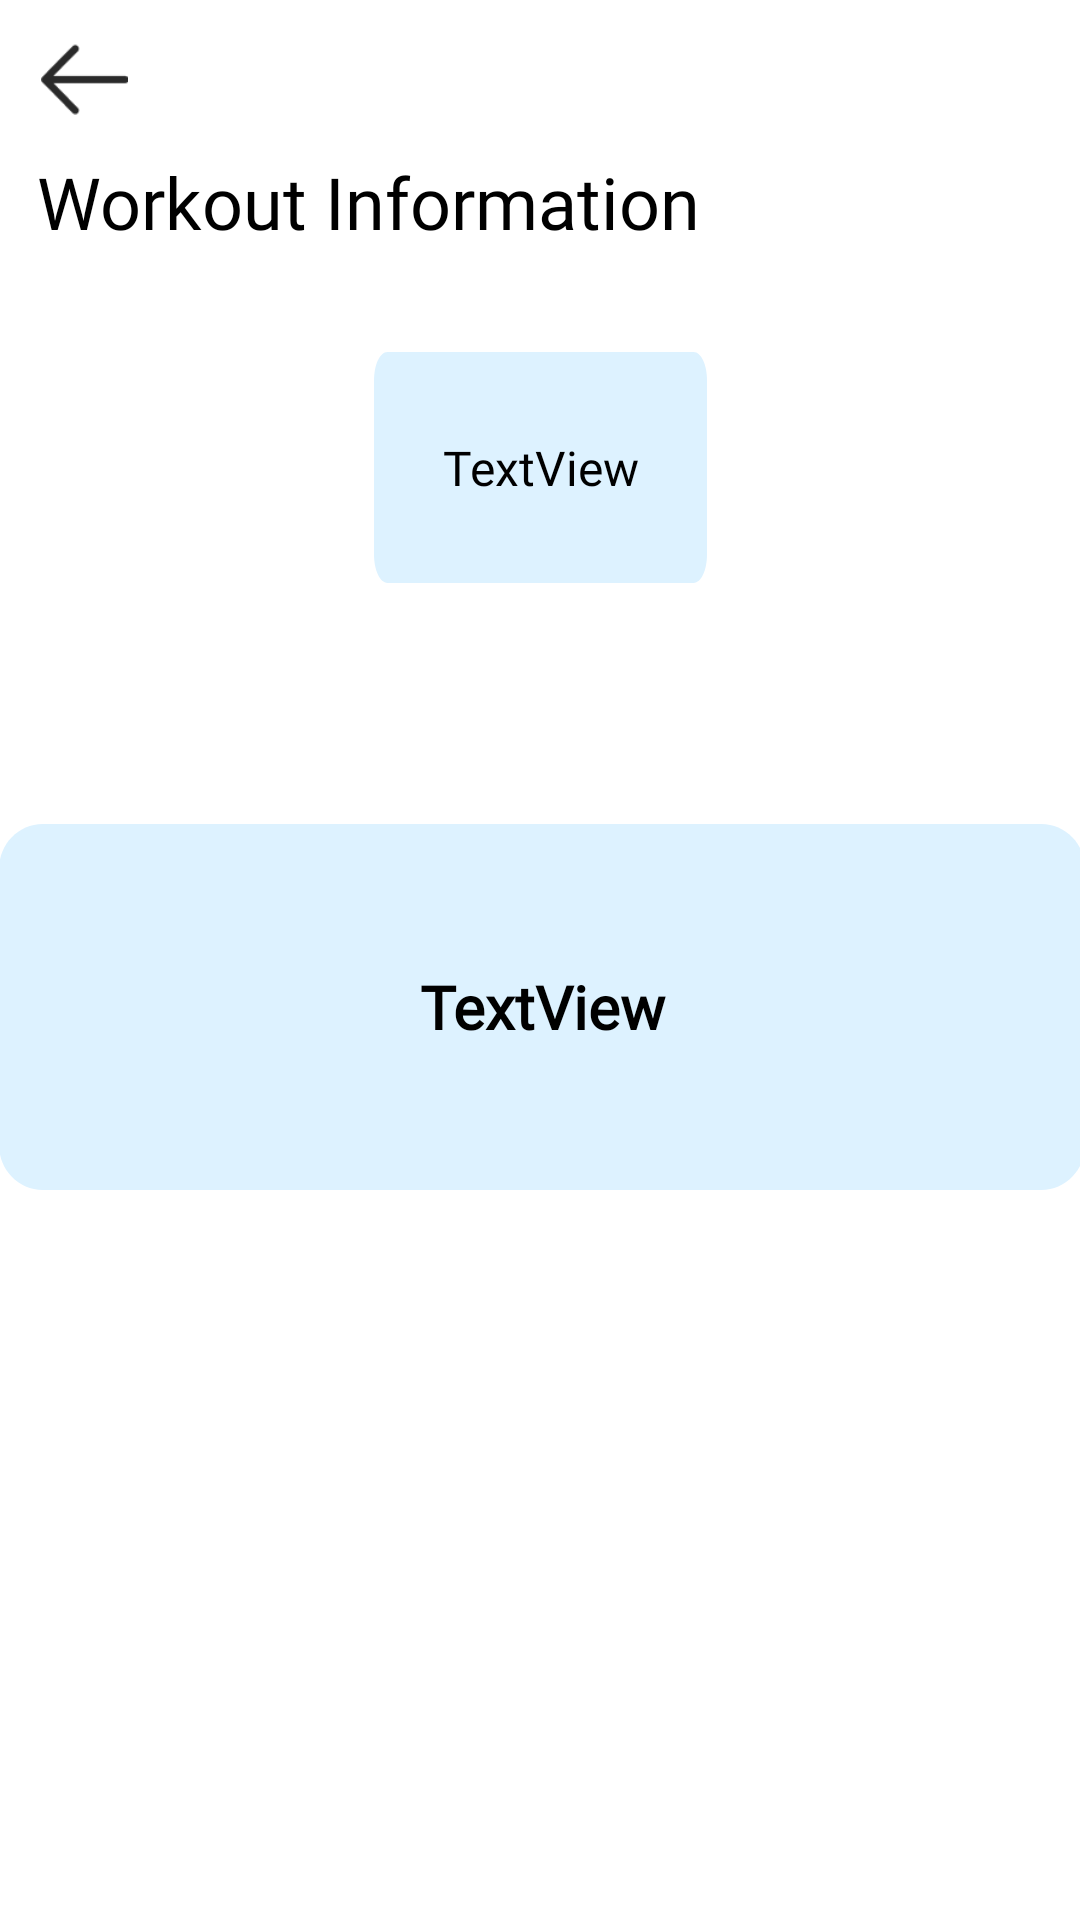

Icons on this 1080 × 1920 Android screen, each with its box as {"left": x1, "top": y1, "right": x2, "bottom": y2}:
arrow: {"left": 41, "top": 44, "right": 128, "bottom": 115}
